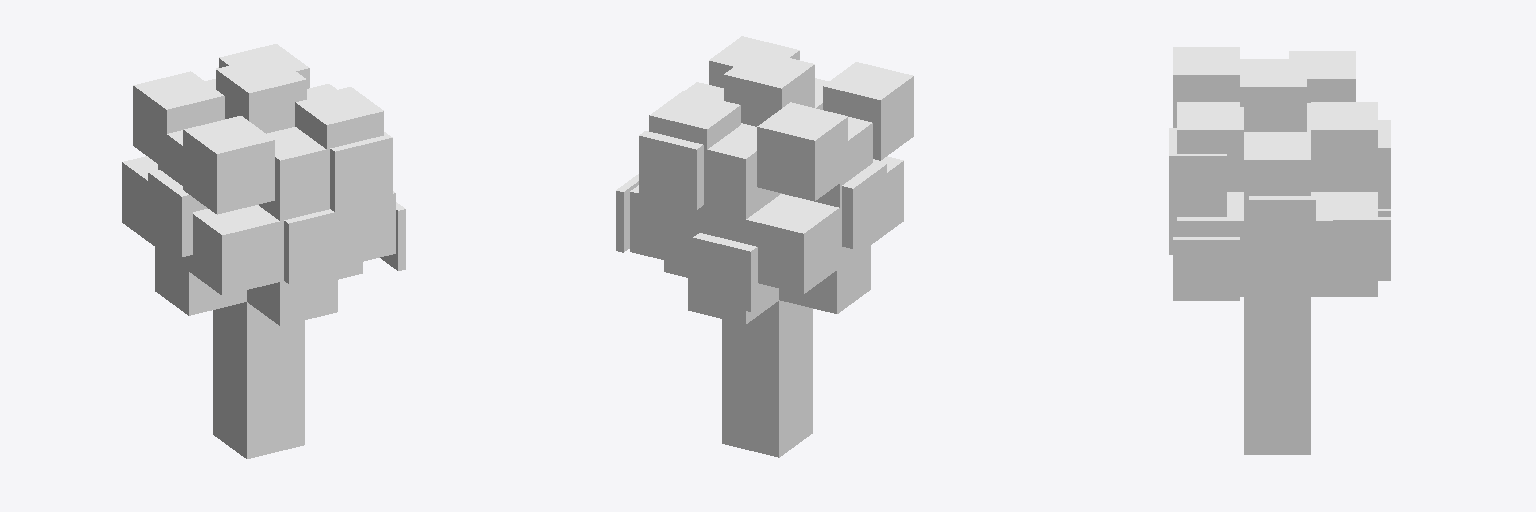
File: nature:tree.obj
3 renders of one model, left to right at view 1: azimuth 30°, elevation 25°; view 2: azimuth 150°, elevation 25°; view 3: azimuth 270°, elevation 25°, orthographic.
Parts seen in each view (by area): view 1: nature:tree; view 2: nature:tree; view 3: nature:tree.
Part boxes in pixels (left/top/right/bottom): nature:tree: left=122, top=44, right=405, bottom=458; nature:tree: left=616, top=36, right=913, bottom=457; nature:tree: left=1169, top=47, right=1390, bottom=454.
Size of the model in its own units: 50 by 91 by 50.